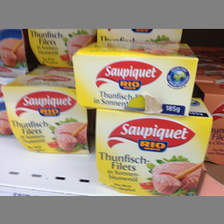fish: (91, 106, 213, 195), (71, 41, 198, 116), (2, 75, 92, 155)
